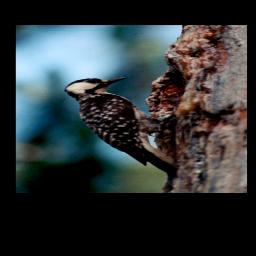Woodpecker: (50, 75, 185, 181)
